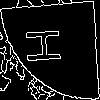H: (25, 25, 70, 65)
